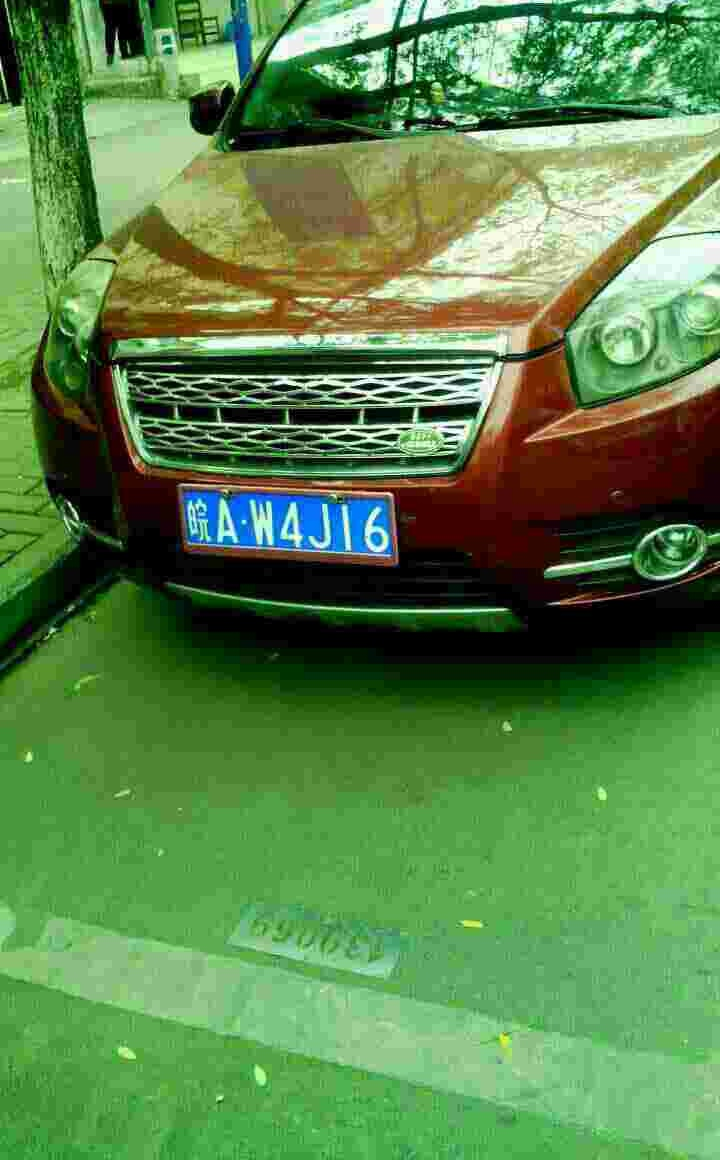license_plate: (179, 496, 398, 556)
